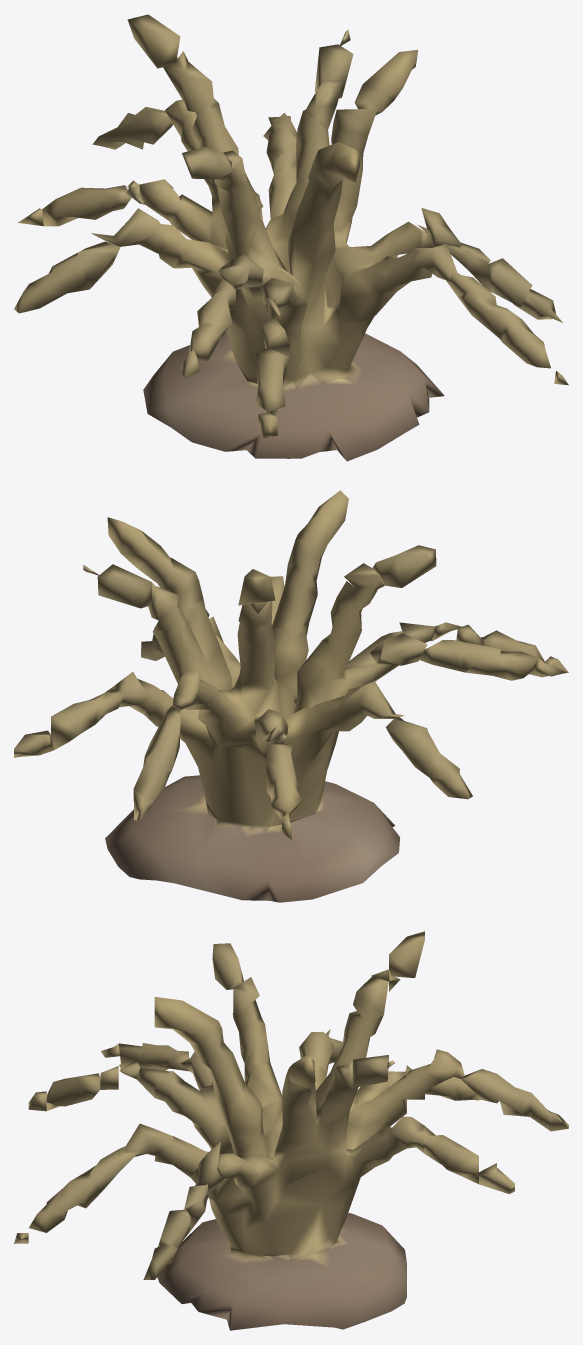
The model's file is grass-turf3.glb.
3 views of the same model, one above another, from view 1: azimuth 30°, elevation 25°; view 2: azimuth 150°, elevation 25°; view 3: azimuth 270°, elevation 25° (orthographic). The views are drawn at different scales.
Visible parts, largest first — view 1: body; view 2: body; view 3: body.
Part boxes in pixels (bbox=[...]): body: bbox=[14, 14, 568, 461]; body: bbox=[14, 490, 568, 902]; body: bbox=[14, 931, 568, 1330].
Size of the model in its own units: 0.6283 by 0.4778 by 0.7744.
